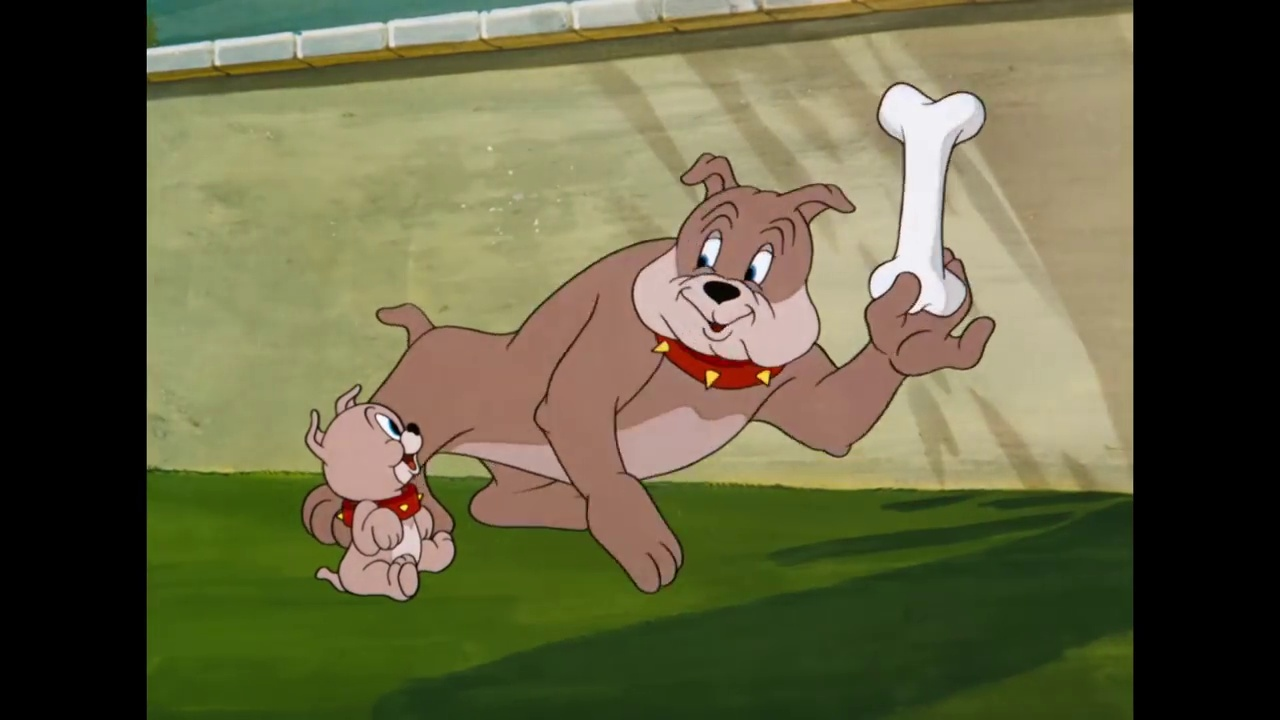spike: (626, 152, 859, 397)
